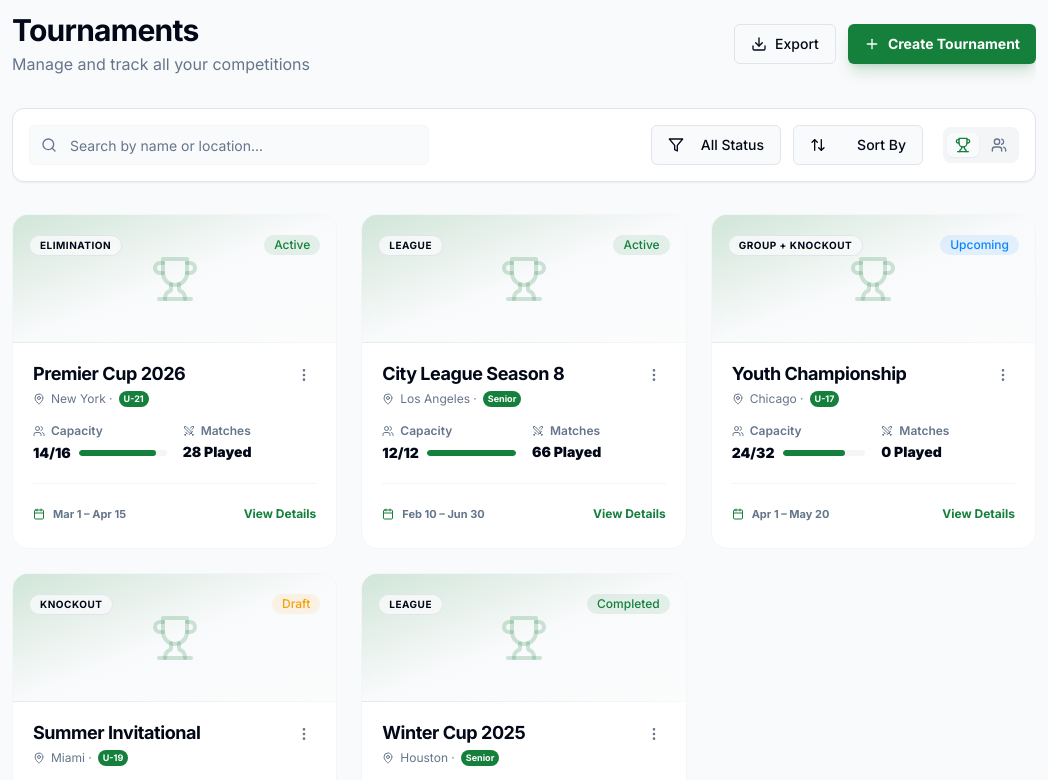
Scenario: TournamentsPage › changes view mode from grid to list
Click the button named "List view".
click(999, 145)  # box [983,133,1015,157]
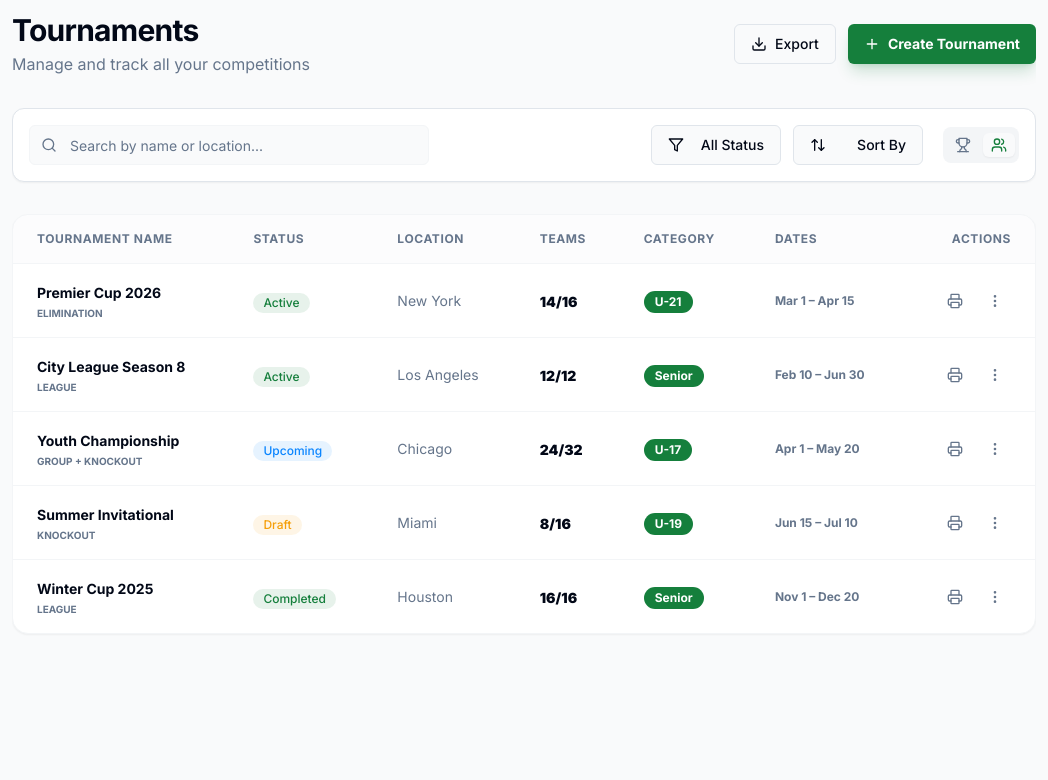
Expected: the column heading "Tournament Name" is shown, [13,215,229,264]
